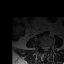CCS_normal: (44, 44, 46, 52)
LFS_stenosis: (48, 44, 51, 49)
LLS_normal: (46, 45, 48, 51)
RFS_normal: (40, 44, 42, 50)
RLS_normal: (42, 45, 44, 51)
